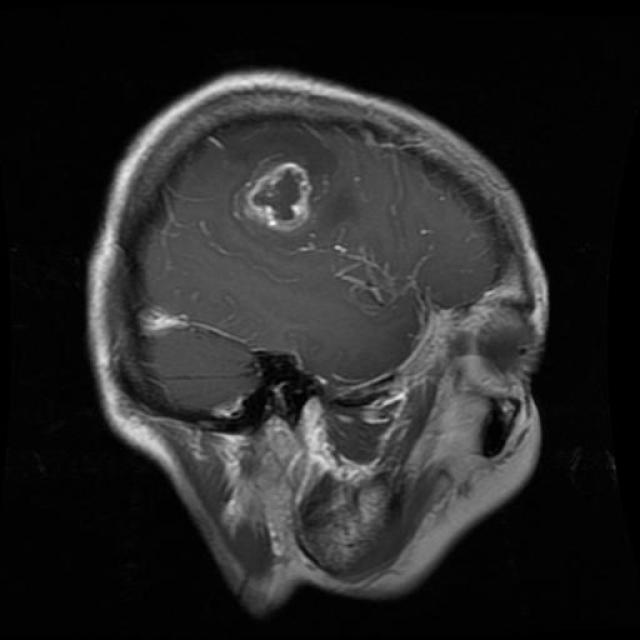glioma: (246, 158, 318, 232)
